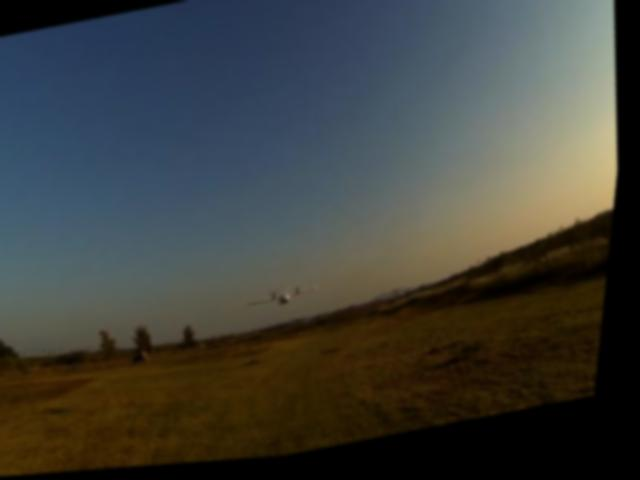uav: (243, 278, 336, 321)
